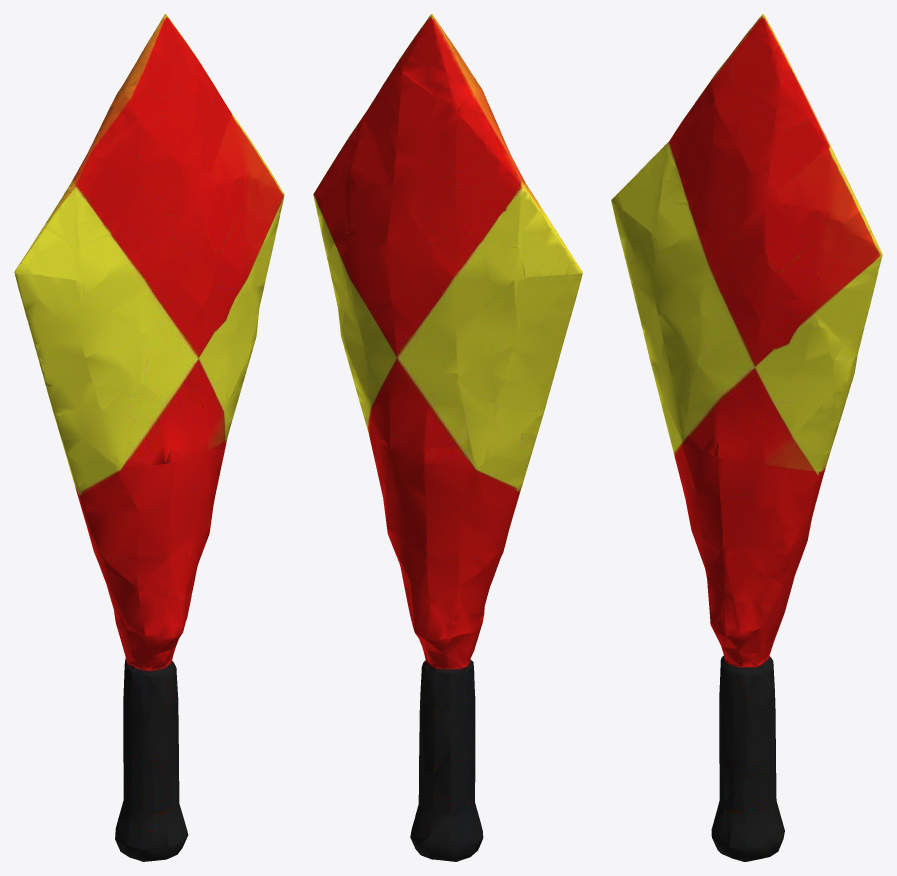
Rendered from flag.glb.
3 views of the same model, side by side, from view 1: azimuth 30°, elevation 25°; view 2: azimuth 150°, elevation 25°; view 3: azimuth 330°, elevation 25° (orthographic).
Visible parts, largest first — view 1: flag; view 2: flag; view 3: flag.
Boxes of the visible parts, x1,y1,x2,y2 form: flag: (14, 14, 284, 861); flag: (313, 14, 582, 861); flag: (611, 14, 882, 861).
Bounding box in the file's own units: 0.2692 × 0.7988 × 0.0898.
1 material, 1 textured.
